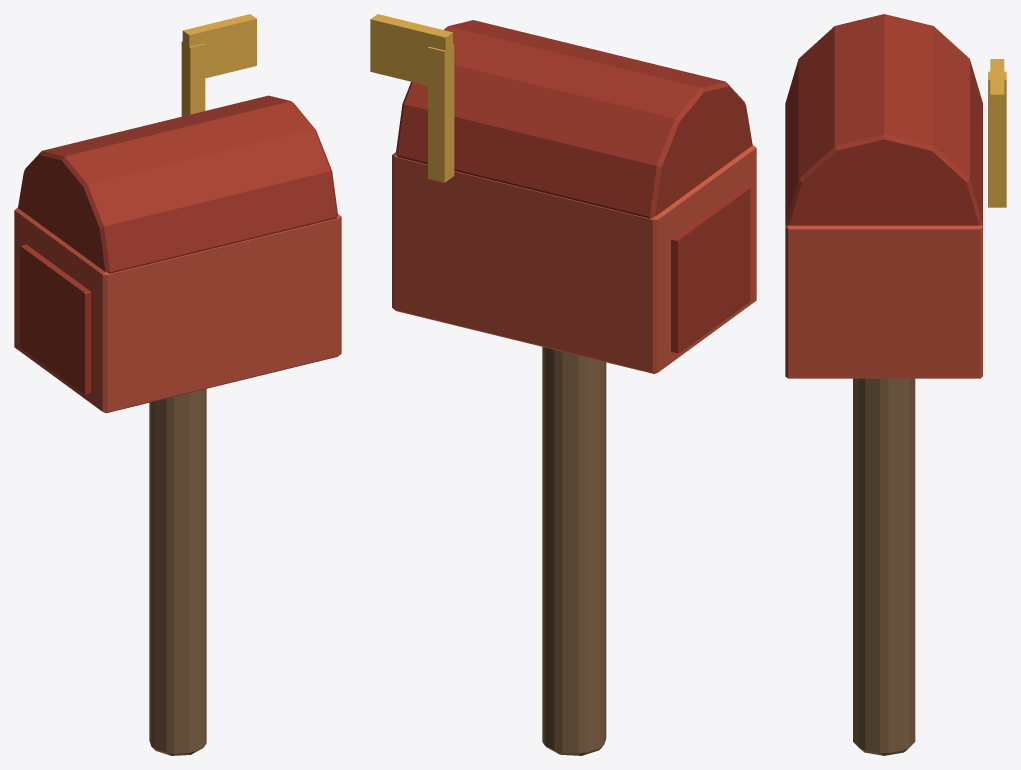
File: mailbox.glb
The picture shows the model from 3 angles, left to right: view 1: azimuth 30°, elevation 25°; view 2: azimuth 150°, elevation 25°; view 3: azimuth 270°, elevation 25°; orthographic projection. The views are drawn at different scales.
Visible parts, largest first — view 1: m_body, m_lid, m_post, m_door, m_flag, m_flag_stick; view 2: m_body, m_lid, m_post, m_door, m_flag, m_flag_stick; view 3: m_lid, m_body, m_post, m_flag_stick, m_flag.
Boxes of the visible parts, left/top/right/bottom form: m_body: left=14, top=207, right=341, bottom=413; m_lid: left=18, top=95, right=337, bottom=273; m_post: left=149, top=389, right=206, bottom=755; m_door: left=20, top=244, right=90, bottom=394; m_flag: left=182, top=14, right=256, bottom=78; m_flag_stick: left=181, top=41, right=205, bottom=116; m_body: left=392, top=145, right=756, bottom=373; m_lid: left=396, top=20, right=752, bottom=218; m_post: left=542, top=347, right=606, bottom=755; m_door: left=671, top=186, right=750, bottom=353; m_flag: left=370, top=14, right=452, bottom=85; m_flag_stick: left=428, top=44, right=454, bottom=182; m_lid: left=785, top=14, right=982, bottom=225; m_body: left=785, top=224, right=982, bottom=378; m_post: left=853, top=378, right=915, bottom=755; m_flag_stick: left=988, top=71, right=1006, bottom=207; m_flag: left=990, top=59, right=1004, bottom=145.
Size of the model in its own units: 0.675 by 1.68 by 0.47.
